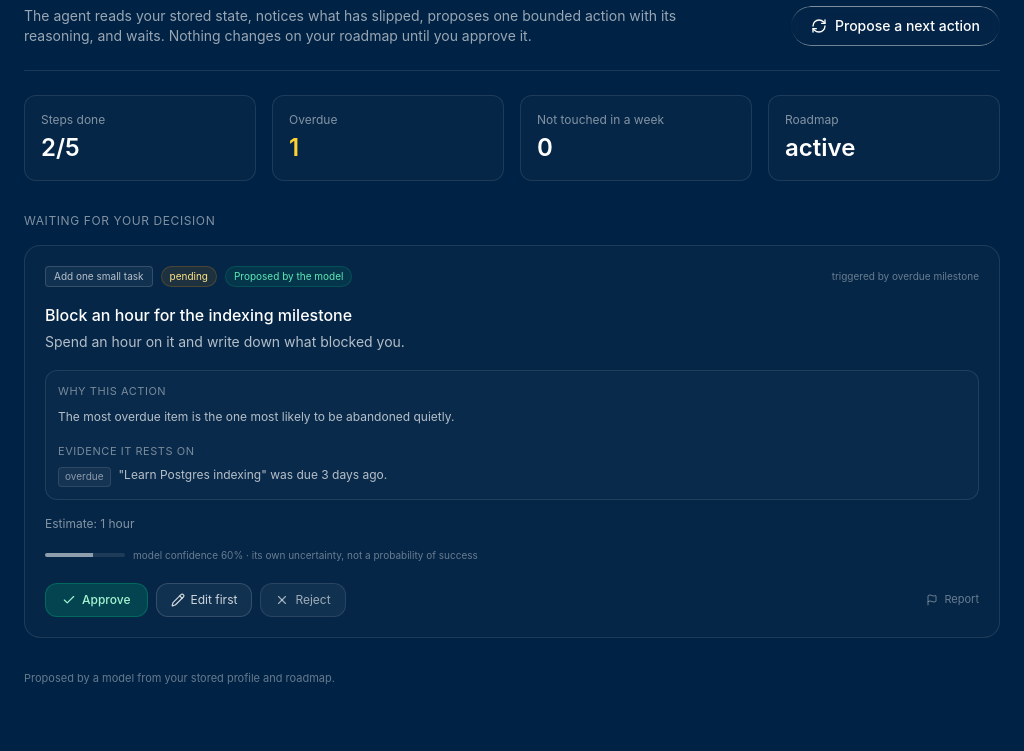
AgentPanel › lets an edit be approved instead of the original wording
The width and height of the screenshot is (1024, 751).
(page scrolled)
Expected: the heading "Block an hour for the indexing milestone" is shown, [45,305,352,325]
Click the button "Edit first".
click(204, 600)  # box [156,583,252,617]
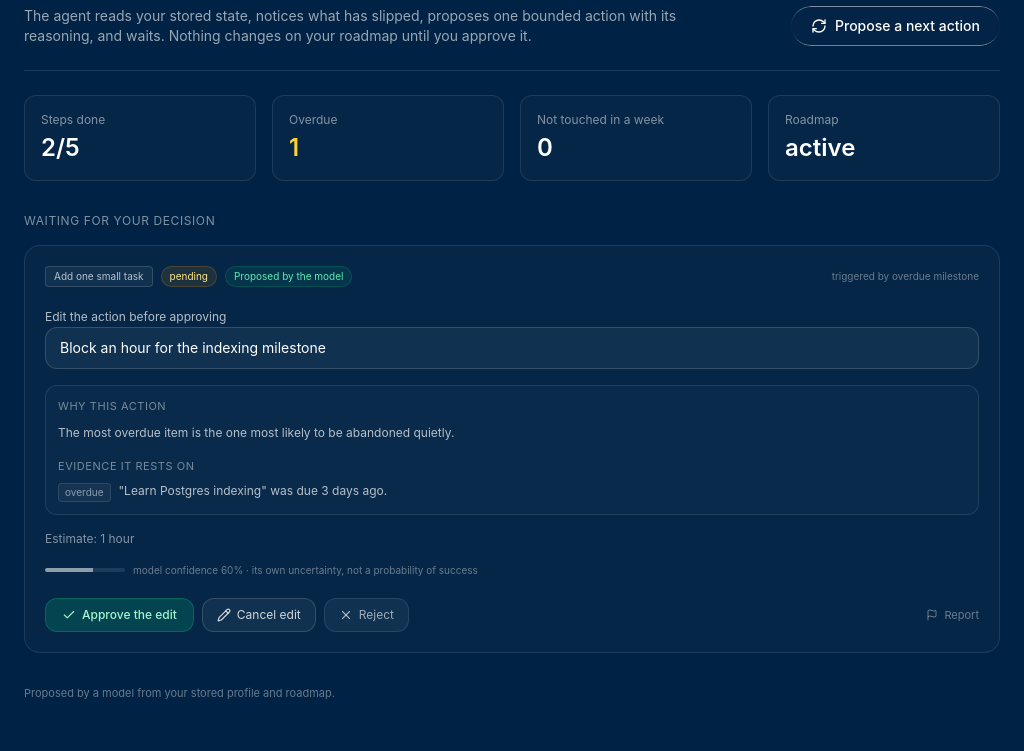
Replace the text in the field with "Rewrite the indexing notes" at (512, 348), box [45,327,979,369]
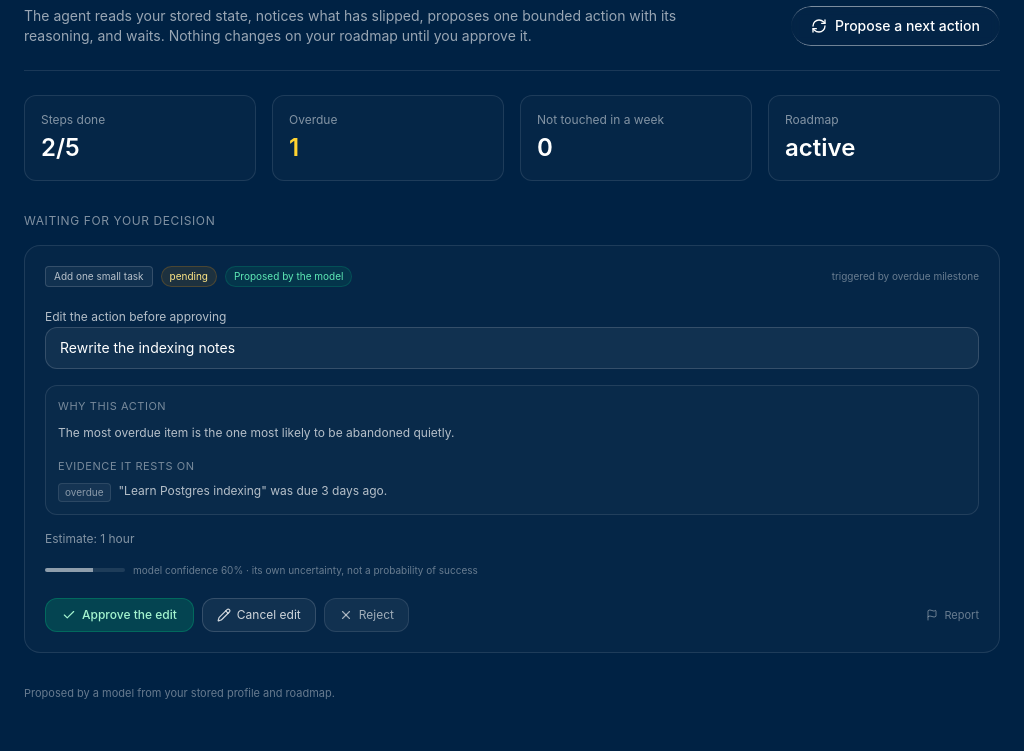
Click the button "Approve the edit".
click(119, 615)  # box [45,598,194,632]
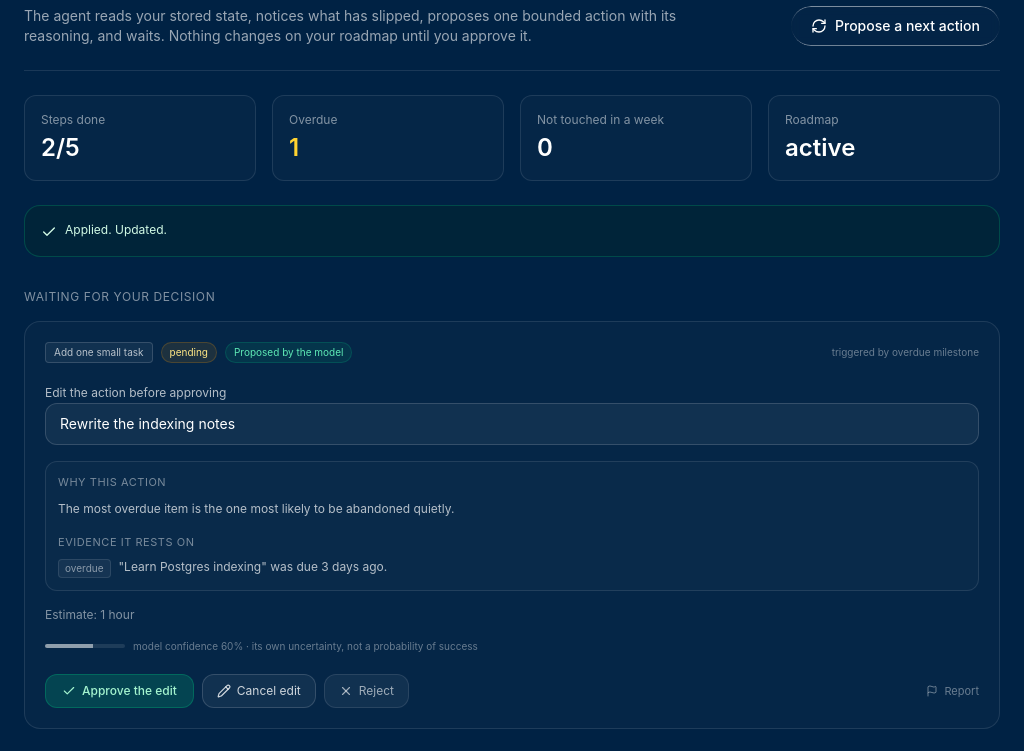
Now the text "Applied. Updated." is shown, box [65,222,167,238]
